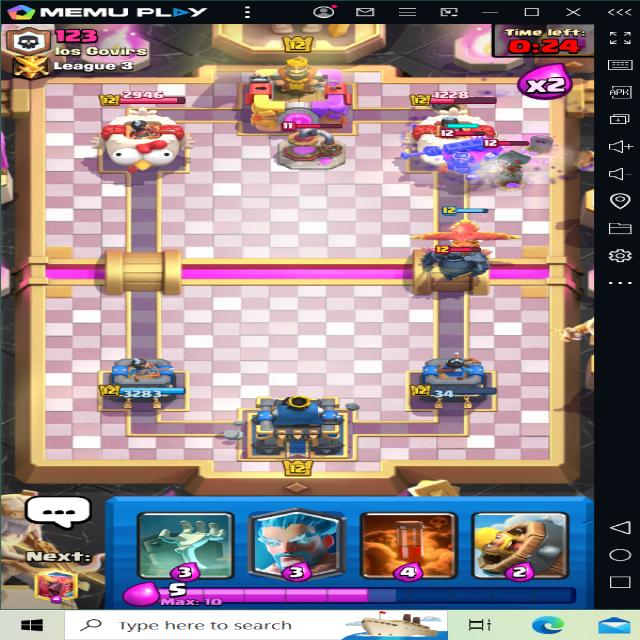bandit: (480, 134, 553, 188)
elixir-collector: (265, 124, 355, 170)
pekka: (424, 240, 496, 296)
skeleton-king: (416, 132, 491, 185)
